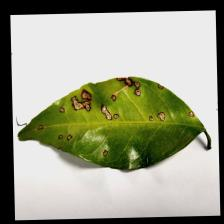canker: (32, 74, 196, 162)
